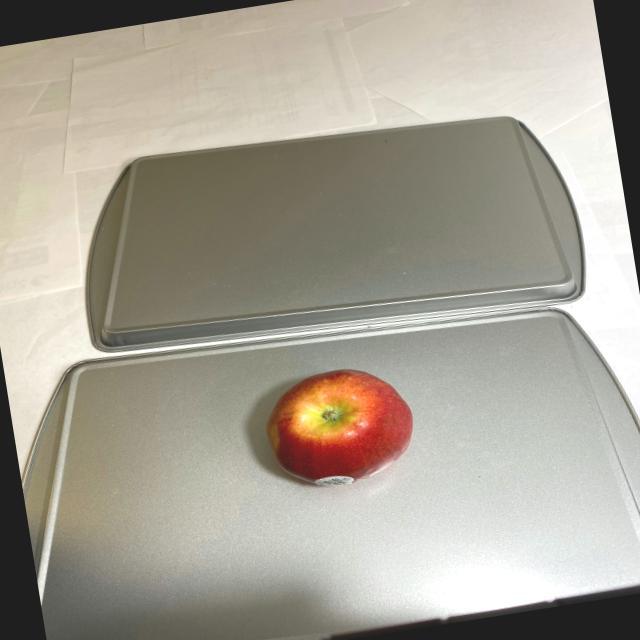apple: (254, 356, 424, 498)
